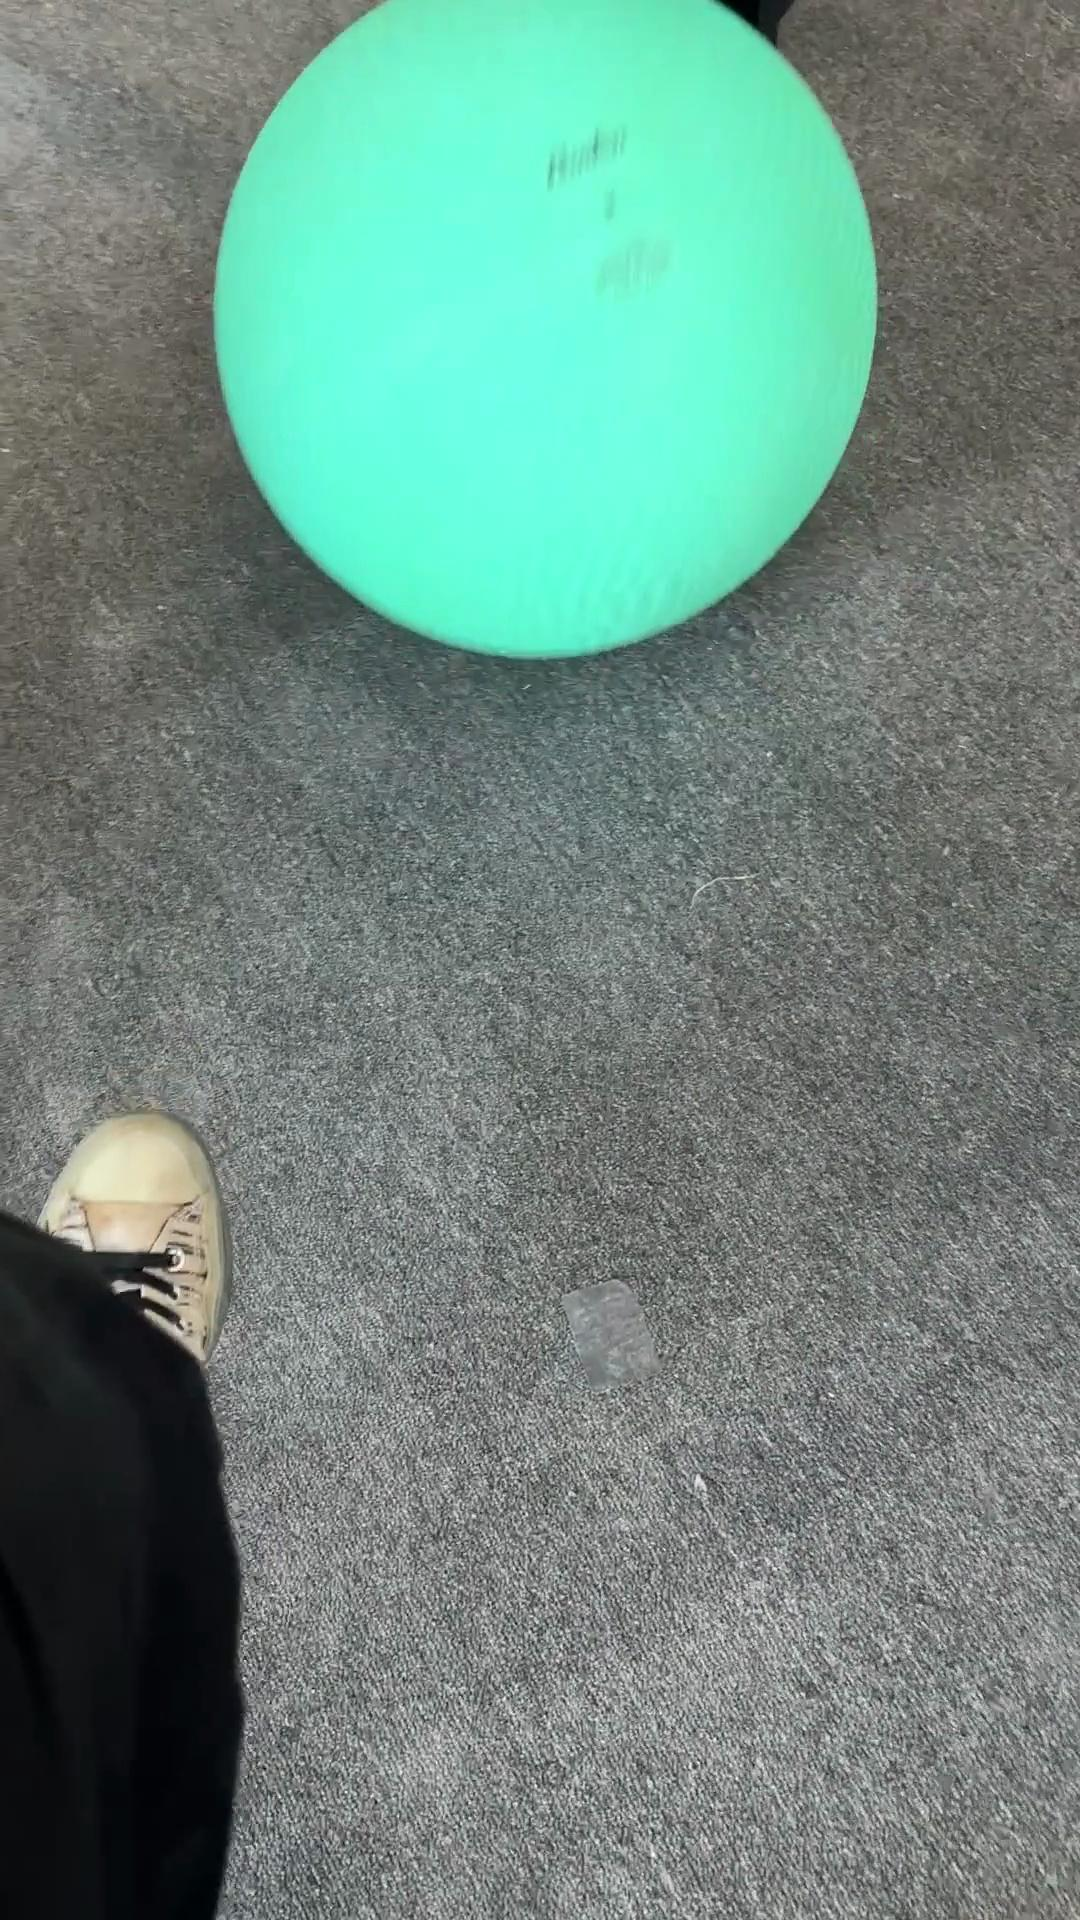ALGAE: (210, 1, 880, 662)
